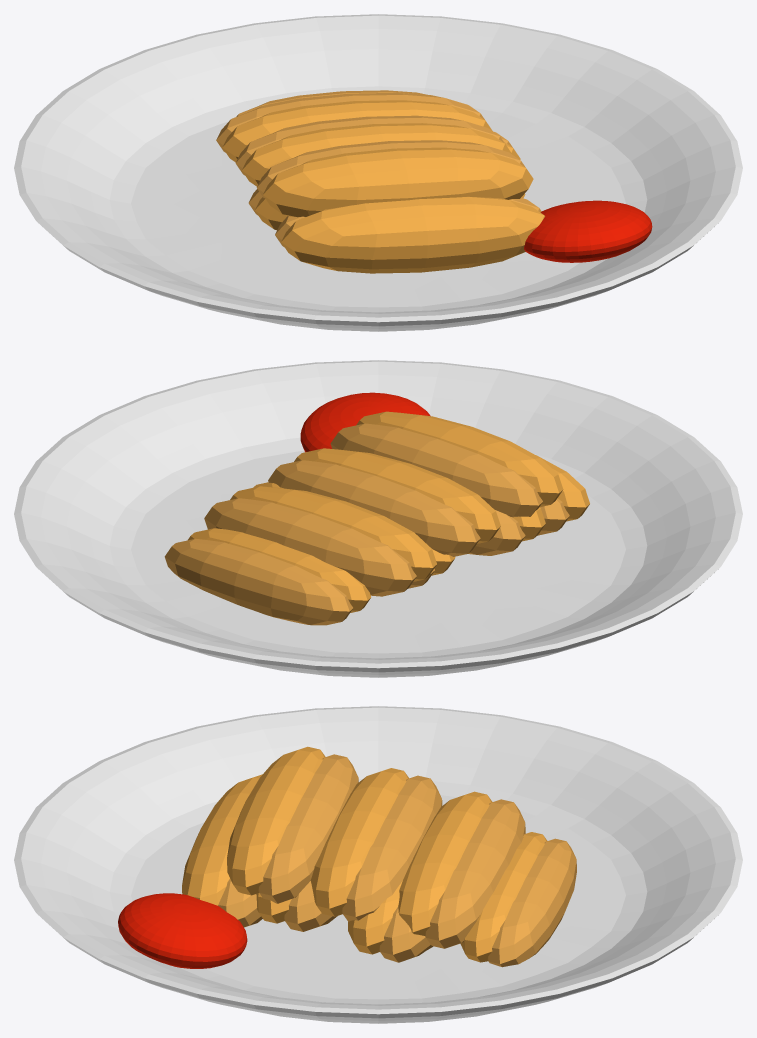
Rendered from cakue mang oleh.fbx.
3 views of the same model, one above another, from view 1: azimuth 30°, elevation 25°; view 2: azimuth 150°, elevation 25°; view 3: azimuth 270°, elevation 25° (orthographic).
Visible parts, largest first — view 1: Cylinder, Cube.008, Cube.014, Sphere, Cube.010, Cube.012, Cube.011, Cube.009, Cube.013, Cube.005, Cube.003; view 2: Cylinder, Cube.005, Cube.011, Cube.009, Cube.013, Cube.012, Cube.014, Cube.010, Sphere, Cube.006, Cube.002, Cube.008 (+2 smaller); view 3: Cylinder, Sphere, Cube.014, Cube.011, Cube.013, Cube.010, Cube.009, Cube.005, Cube.012, Cube.008, Cube.006, Cube.004 (+4 smaller).
Part boxes in pixels (x1=…): Cylinder: x1=14, y1=14, x2=742, y2=331; Cube.008: x1=281, y1=196, x2=544, y2=273; Cube.014: x1=263, y1=147, x2=533, y2=217; Sphere: x1=524, y1=200, x2=652, y2=262; Cube.010: x1=242, y1=123, x2=512, y2=186; Cube.012: x1=222, y1=100, x2=492, y2=162; Cube.011: x1=216, y1=92, x2=485, y2=152; Cube.009: x1=235, y1=115, x2=504, y2=175; Cube.013: x1=256, y1=140, x2=525, y2=198; Cube.005: x1=236, y1=90, x2=427, y2=116; Cube.003: x1=255, y1=193, x2=525, y2=230; Cylinder: x1=14, y1=360, x2=742, y2=677; Cube.005: x1=164, y1=538, x2=353, y2=625; Cube.011: x1=204, y1=498, x2=416, y2=596; Cube.009: x1=268, y1=460, x2=480, y2=556; Cube.013: x1=330, y1=423, x2=542, y2=517; Cube.012: x1=230, y1=486, x2=436, y2=581; Cube.014: x1=356, y1=411, x2=563, y2=507; Cube.010: x1=294, y1=448, x2=500, y2=543; Sphere: x1=300, y1=392, x2=430, y2=452; Cube.006: x1=188, y1=528, x2=371, y2=612; Cube.002: x1=468, y1=510, x2=525, y2=555; Cube.008: x1=536, y1=455, x2=589, y2=521; Cylinder: x1=14, y1=706, x2=742, y2=1023; Sphere: x1=118, y1=893, x2=247, y2=968; Cube.014: x1=227, y1=746, x2=325, y2=895; Cube.011: x1=425, y1=799, x2=525, y2=948; Cube.013: x1=258, y1=754, x2=358, y2=903; Cube.010: x1=310, y1=768, x2=408, y2=916; Cube.009: x1=342, y1=775, x2=442, y2=921; Cube.005: x1=487, y1=838, x2=576, y2=967; Cube.012: x1=398, y1=791, x2=492, y2=935; Cube.008: x1=182, y1=774, x2=262, y2=905; Cube.006: x1=460, y1=832, x2=547, y2=962; Cube.004: x1=348, y1=881, x2=402, y2=954.
Size of the model in its own units: 231 by 39.61 by 231.
